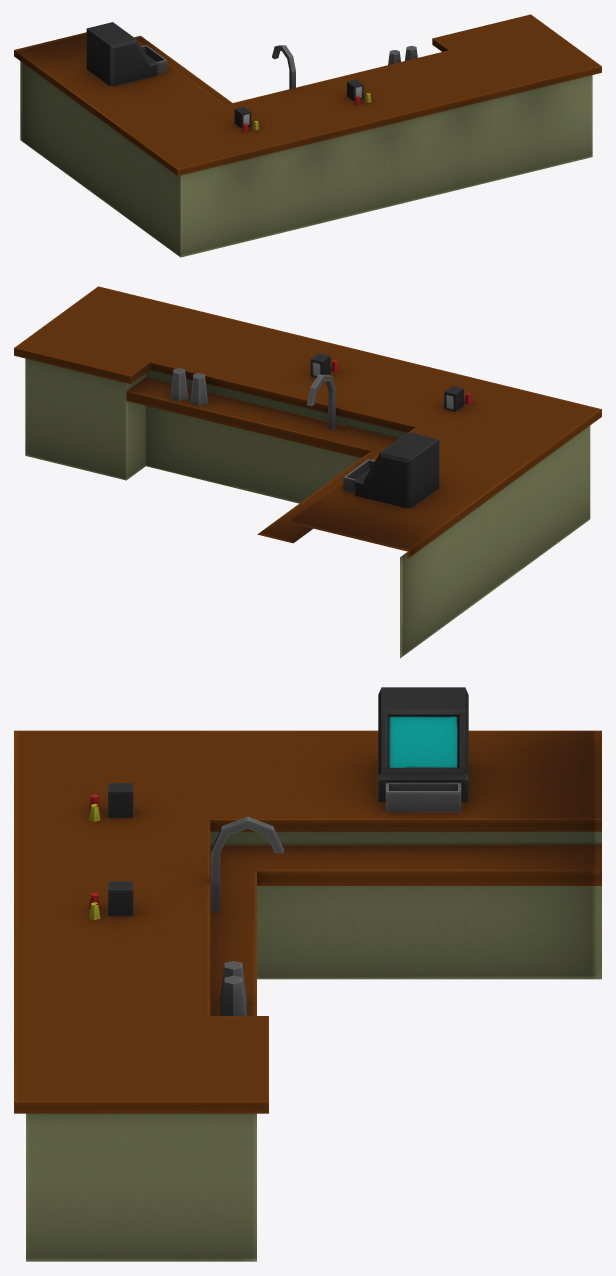
File: bar_mesh.001.003_lev1.glb
3 renders of one model, top to bottom at view 1: azimuth 30°, elevation 25°; view 2: azimuth 150°, elevation 25°; view 3: azimuth 270°, elevation 25°, orthographic. The views are drawn at different scales.
Parts seen in each view (by area): view 1: bar_mesh.001.003_lev1; view 2: bar_mesh.001.003_lev1; view 3: bar_mesh.001.003_lev1.
Boxes of the visible parts, left/top/right/bottom form: bar_mesh.001.003_lev1: left=14, top=14, right=601, bottom=257; bar_mesh.001.003_lev1: left=14, top=286, right=601, bottom=658; bar_mesh.001.003_lev1: left=14, top=687, right=601, bottom=1261.
Size of the model in its own units: 10.48 by 3.13 by 7.01.
1 material, 1 textured.
